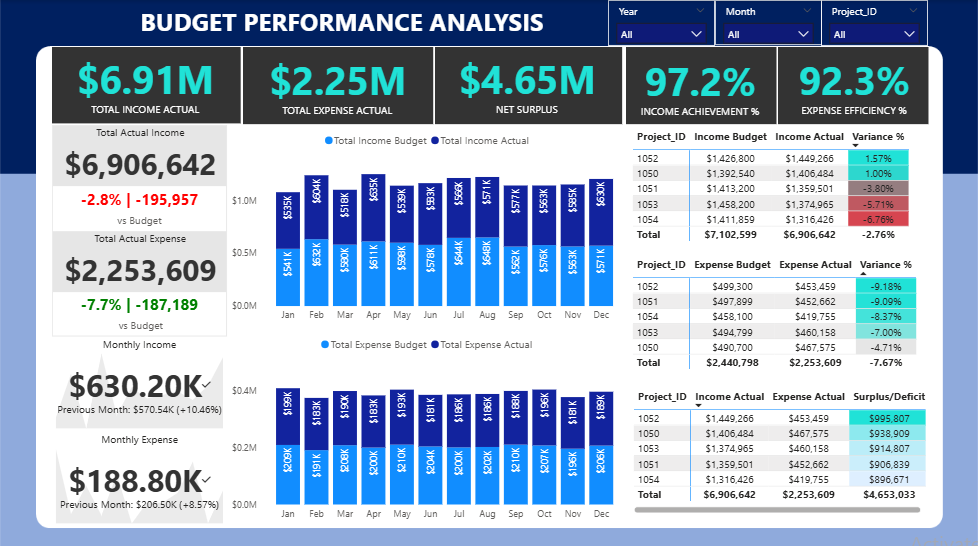

Layout of this report page (visuals, bound fields, positions):
{"tool":"powerbi","page":{"name":"Page 1","canvas":[1280,720],"ordinal":0},"visuals":[{"type":"slicer","fields":{"Values":["Project_Monthly_Performance_201.Year"]},"box":[796,0,139.6,60.2],"z":0},{"type":"shape","box":[1018.3,61.7,196.9,101.4],"z":0,"group":"g1"},{"type":"shape","box":[818.5,61.7,196.9,101.4],"z":1000,"group":"g1"},{"type":"kpi","title":"Monthly Income","fields":{"Indicator":["KPI Calculations.Total Income Actual"],"Goal":["KPI Calculations.Total Income Budget"],"TrendLine":["Project_Monthly_Performance_201.Month_Name"]},"box":[67.6,440.8,229.2,124.9],"z":1000},{"type":"shape","box":[568.7,61.7,245.4,101.4],"z":2000,"group":"g1"},{"type":"slicer","fields":{"Values":["Project_Monthly_Performance_201.Project_ID"]},"box":[1075.2,0,139.6,60.2],"z":2000},{"type":"slicer","fields":{"Values":["Project_Monthly_Performance_201.Month_Name"]},"box":[935.6,0,139.6,58.8],"z":3000},{"type":"card","fields":{"Values":["KPI Calculations.Expense Efficiency %"]},"box":[1021.2,63.2,194,97],"z":3000,"group":"g1"},{"type":"shape","box":[317.4,61.7,248.8,101.3],"z":4000,"group":"g1"},{"type":"kpi","title":"Monthly Expense","fields":{"Indicator":["KPI Calculations.Total Expense Actual"],"Goal":["KPI Calculations.Total Expense Budget"],"TrendLine":["Project_Monthly_Performance_201.Month_Name"]},"box":[67.6,565.7,229.2,124.9],"z":4000},{"type":"card","fields":{"Values":["KPI Calculations.Income Achievement %"]},"box":[818.5,64.6,194,97],"z":5000,"group":"g1"},{"type":"columnChart","title":"Monthly Income Budget VS Income Actual","fields":{"Category":["Project_Monthly_Performance_201.Month_Name"],"Y":["KPI Calculations.Total Income Budget","KPI Calculations.Total Income Actual"]},"box":[298.3,163.1,524.6,267.4],"z":5000},{"type":"card","fields":{"Values":["KPI Calculations.Total Expense Actual"]},"box":[323.4,63.2,236.8,96.9],"z":6000,"group":"g1"},{"type":"columnChart","title":"Monthly Income Budget VS Income Actual","fields":{"Category":["Project_Monthly_Performance_201.Month_Name"],"Y":["KPI Calculations.Total Expense Budget","KPI Calculations.Total Expense Actual"]},"box":[298.3,430.5,524.6,260.1],"z":6000},{"type":"shape","box":[67.6,61.7,247.3,99.9],"z":7000,"group":"g1"},{"type":"group","id":"g1","title":"Group 1","box":[67.6,61.7,1147.6,101.4],"z":7000},{"type":"card","fields":{"Values":["KPI Calculations.Total Income Actual"]},"box":[72,61.7,236.6,97],"z":8000,"group":"g1"},{"type":"pivotTable","fields":{"Values":["KPI Calculations.Total Income Budget","KPI Calculations.Total Income Actual","KPI Calculations.Income Variance %"],"Rows":["Project_Monthly_Performance_201.Project_ID"]},"box":[822.9,163.1,392.3,167.5],"z":8000},{"type":"card","fields":{"Values":["KPI Calculations.Net Budget Surplus"]},"box":[570.2,61.7,238,97],"z":9000,"group":"g1"},{"type":"card","title":"Total Actual Income","fields":{"Values":["KPI Calculations.KPI Total Income vs Budget"]},"box":[67.6,163.1,229.2,139.6],"z":9000},{"type":"card","title":"Total Actual Expense","fields":{"Values":["KPI Calculations.KPI Total Expense vs Budget"]},"box":[67.6,302.7,229.2,138.1],"z":10000},{"type":"pivotTable","fields":{"Values":["KPI Calculations.Total Expense Budget","KPI Calculations.Total Expense Actual","KPI Calculations.Expense Variance %"],"Rows":["Project_Monthly_Performance_201.Project_ID"]},"box":[822.9,330.6,392.3,173.4],"z":11000},{"type":"pivotTable","fields":{"Values":["KPI Calculations.Total Income Actual","KPI Calculations.Total Expense Actual","KPI Calculations.Net Surplus/Deficit"],"Rows":["Project_Monthly_Performance_201.Project_ID"]},"box":[824.3,504,392.3,173.4],"z":12000},{"type":"textbox","box":[99.9,0,696.5,58.8],"z":13000}]}

Visuals, with their boxes in screenshot pixels (x1, y1, x2, y2), scaled from the page's 1280x720 canvas onto the 978x546 screenshot:
slicer - Project_Monthly_Performance_201.Year: (608, 0, 715, 46)
shape: (778, 47, 928, 124)
shape: (625, 47, 776, 124)
"Monthly Income" kpi: (52, 334, 227, 429)
shape: (435, 47, 622, 124)
slicer - Project_Monthly_Performance_201.Project_ID: (822, 0, 928, 46)
slicer - Project_Monthly_Performance_201.Month_Name: (715, 0, 822, 45)
card - KPI Calculations.Expense Efficiency %: (780, 48, 928, 121)
shape: (243, 47, 433, 124)
"Monthly Expense" kpi: (52, 429, 227, 524)
card - KPI Calculations.Income Achievement %: (625, 49, 774, 123)
"Monthly Income Budget VS Income Actual" columnChart: (228, 124, 629, 326)
card - KPI Calculations.Total Expense Actual: (247, 48, 428, 121)
"Monthly Income Budget VS Income Actual" columnChart: (228, 326, 629, 524)
shape: (52, 47, 241, 123)
"Group 1" group: (52, 47, 928, 124)
card - KPI Calculations.Total Income Actual: (55, 47, 236, 120)
pivotTable - KPI Calculations.Total Income Budget x KPI Calculations.Total Income Actual: (629, 124, 928, 251)
card - KPI Calculations.Net Budget Surplus: (436, 47, 618, 120)
"Total Actual Income" card: (52, 124, 227, 230)
"Total Actual Expense" card: (52, 230, 227, 334)
pivotTable - KPI Calculations.Total Expense Budget x KPI Calculations.Total Expense Actual: (629, 251, 928, 382)
pivotTable - KPI Calculations.Total Income Actual x KPI Calculations.Total Expense Actual: (630, 382, 930, 514)
textbox: (76, 0, 608, 45)
